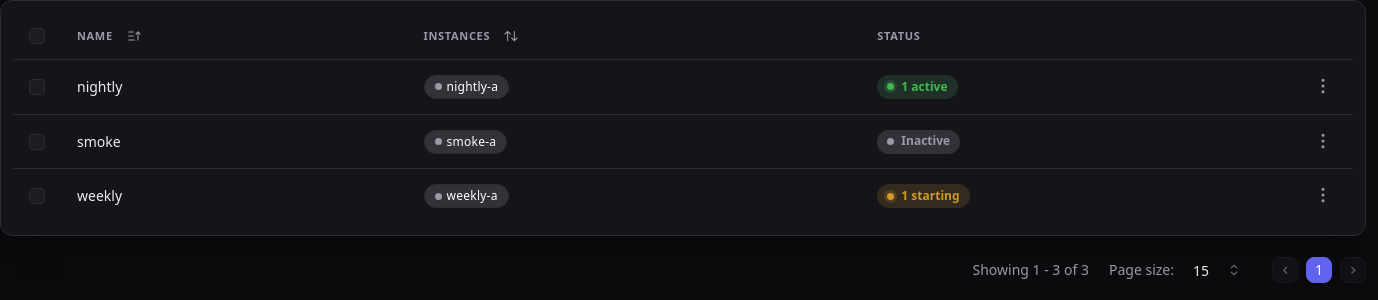
Scenario: ScenariosTable › selects a scenario for the actions above the table
Click the checkbox in the row of "nightly-a".
click(37, 87)  # box [29,79,45,95]
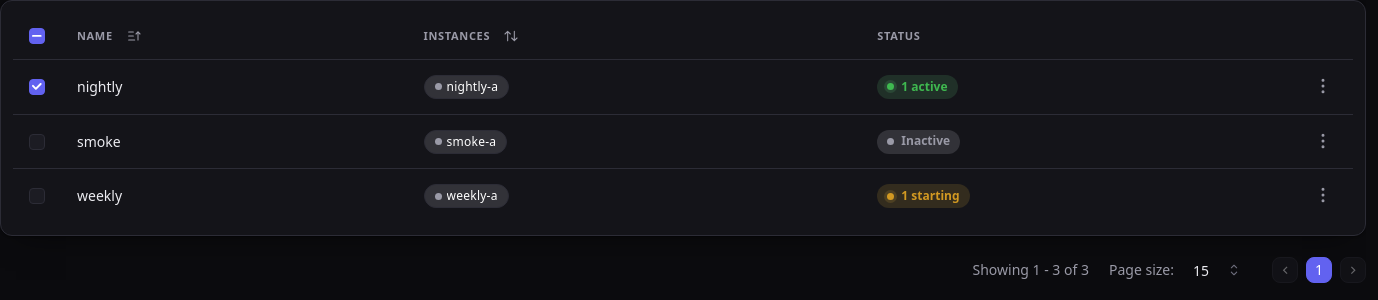
Result: the checkbox in the row of "nightly-a" is checked at [29,79,45,95]
